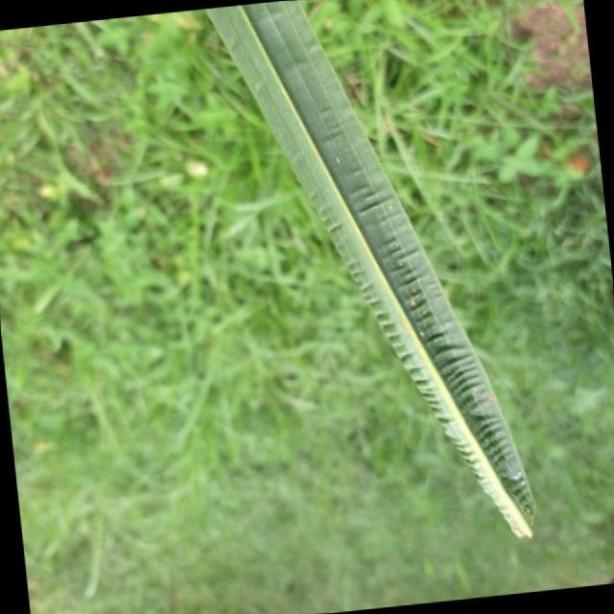Boron: (203, 0, 547, 542)
